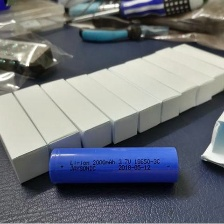battery: (46, 143, 181, 188)
book: (9, 79, 85, 167), (35, 73, 116, 154), (81, 64, 168, 136), (0, 88, 58, 190), (63, 72, 141, 145), (102, 61, 184, 130), (126, 56, 200, 119), (141, 50, 217, 111), (153, 44, 223, 97), (170, 38, 224, 87)
